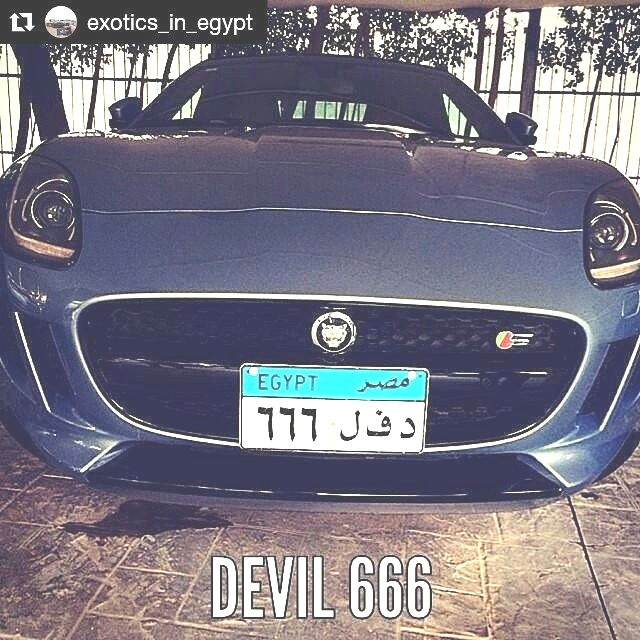License Plate: (236, 359, 432, 461)
